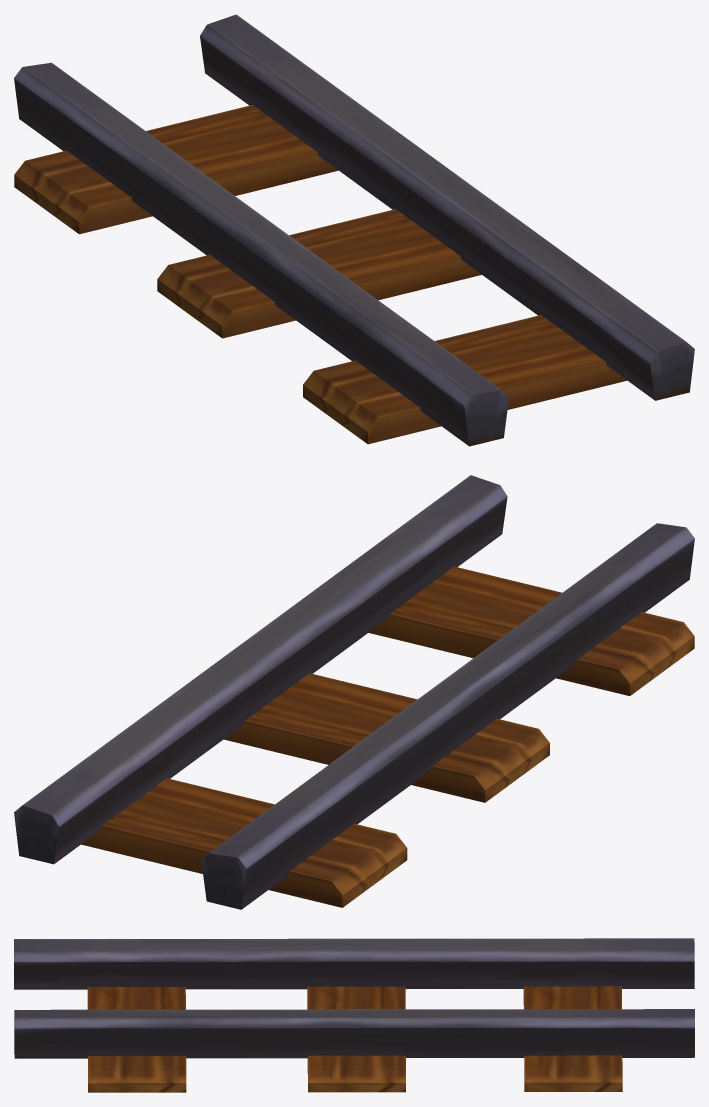
File: rock_07.fbx
3 renders of one model, top to bottom at view 1: azimuth 30°, elevation 25°; view 2: azimuth 150°, elevation 25°; view 3: azimuth 270°, elevation 25°, orthographic. The views are drawn at different scales.
Parts seen in each view (by area): view 1: rock_07; view 2: rock_07; view 3: rock_07.
Part boxes in pixels (x1=…): rock_07: x1=14, y1=14, x2=694, y2=446; rock_07: x1=14, y1=475, x2=694, y2=909; rock_07: x1=14, y1=938, x2=694, y2=1092.
Bounding box in the file's own units: 1.16 × 0.2423 × 2.76.
